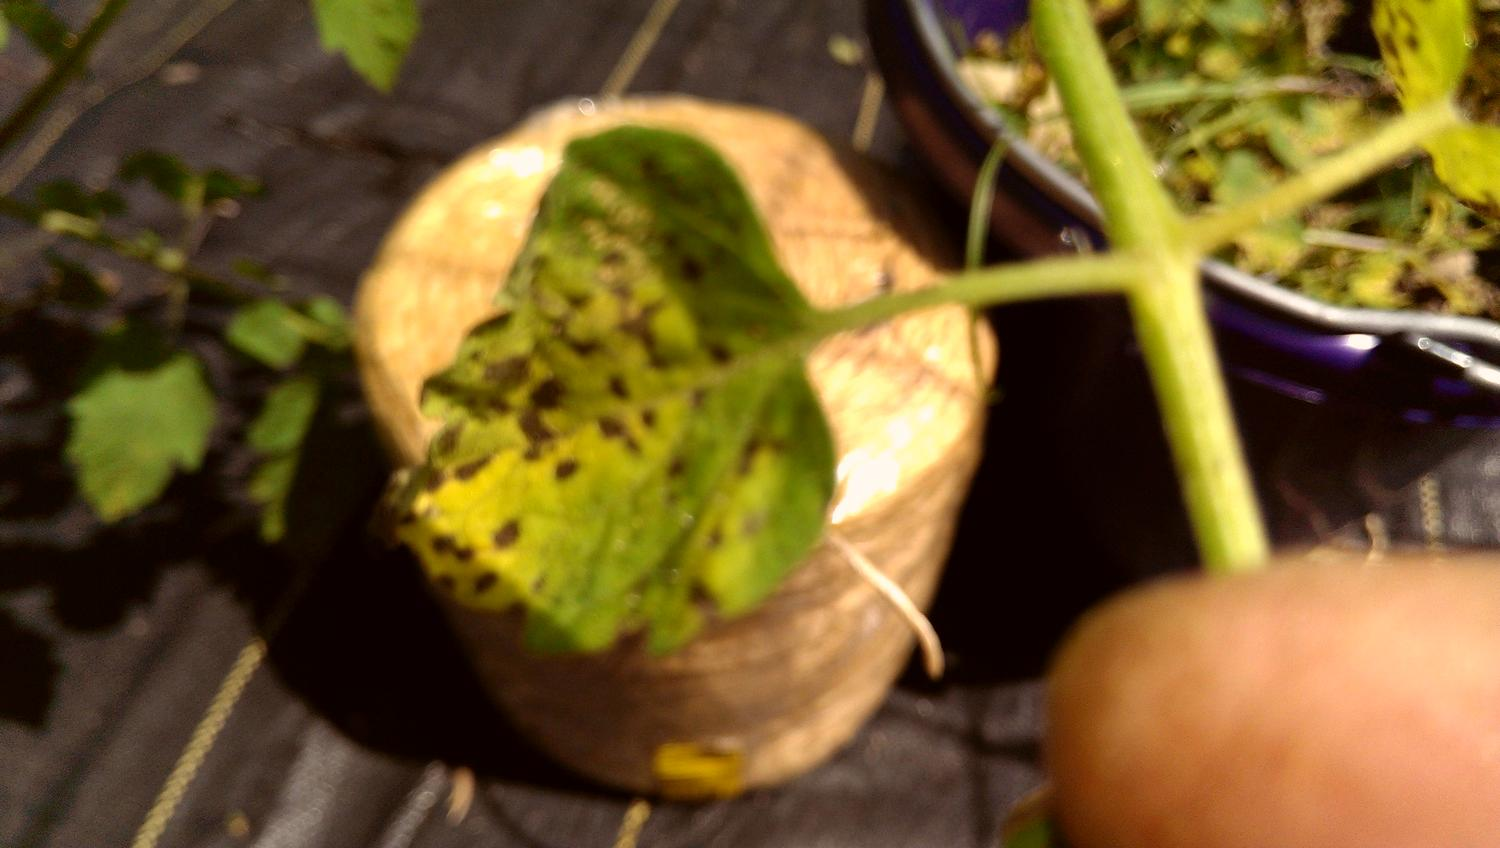Tomato Septoria leaf spot: (366, 115, 874, 718)
